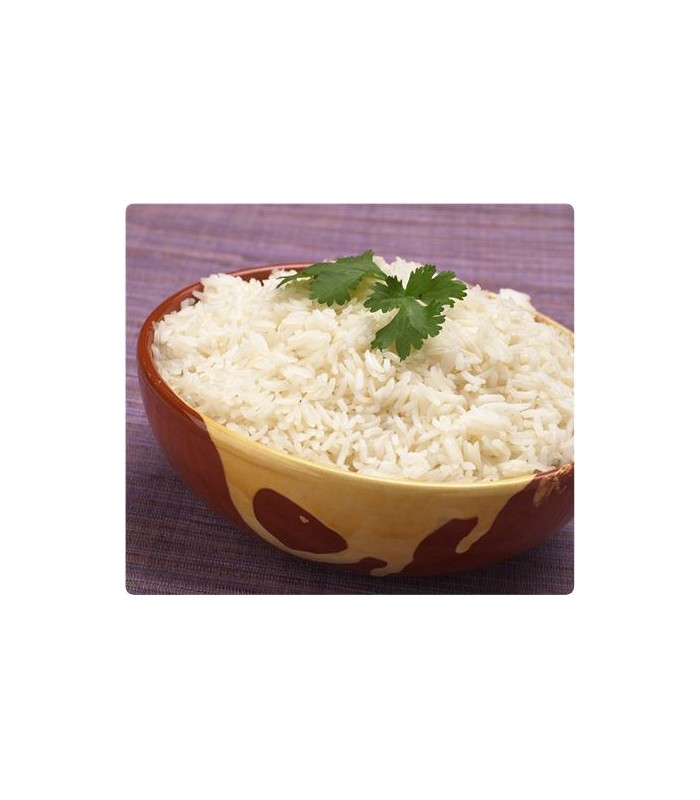plain rice: (209, 279, 558, 470)
